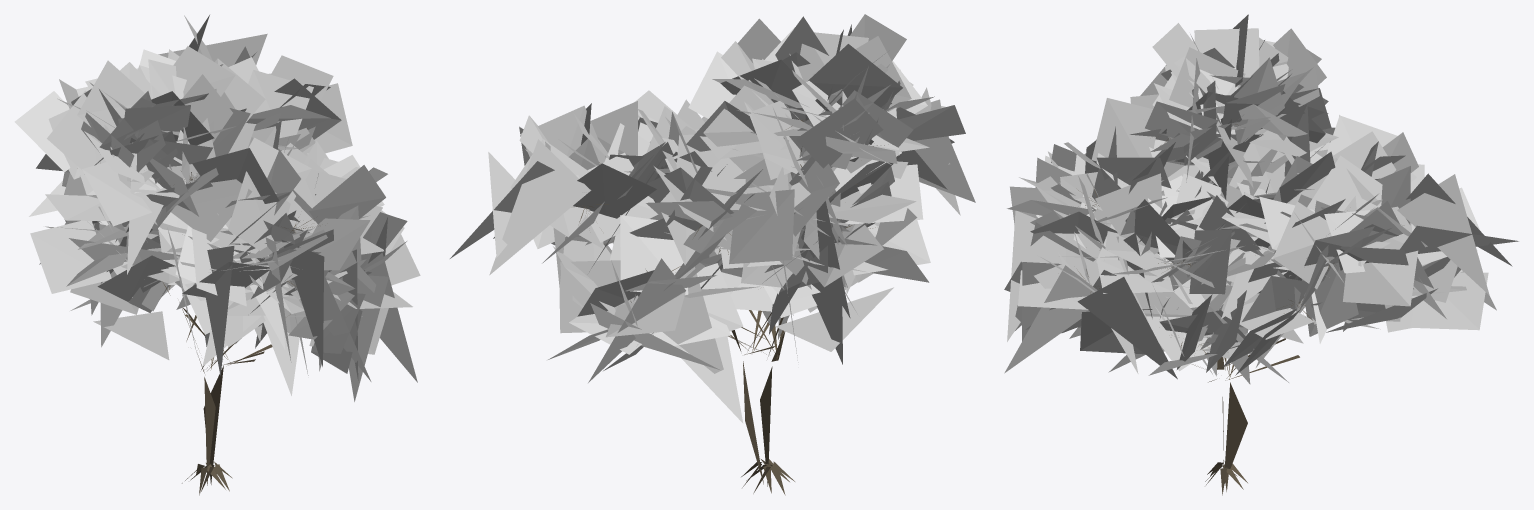
File: CheneVert_Bifurque_LOD2.fbx
3 renders of one model, left to right at view 1: azimuth 30°, elevation 25°; view 2: azimuth 150°, elevation 25°; view 3: azimuth 270°, elevation 25°, orthographic. The views are drawn at different scales.
Visible parts, largest first — view 1: CheneVert_Bifurque_LOD2; view 2: CheneVert_Bifurque_LOD2; view 3: CheneVert_Bifurque_LOD2.
Part boxes in pixels (<box>): CheneVert_Bifurque_LOD2: <box>14,15,420,495</box>; CheneVert_Bifurque_LOD2: <box>450,14,975,495</box>; CheneVert_Bifurque_LOD2: <box>1004,14,1518,495</box>.
Size of the model in its own units: 673 by 832 by 906.
